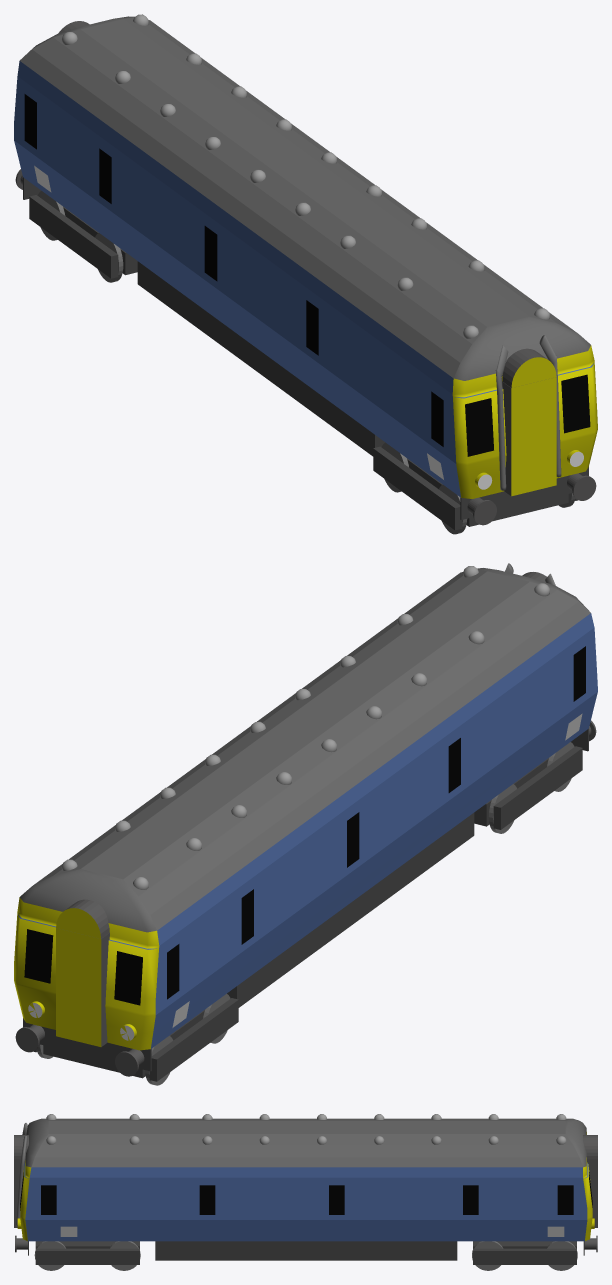
3 renders of one model, top to bottom at view 1: azimuth 30°, elevation 25°; view 2: azimuth 150°, elevation 25°; view 3: azimuth 270°, elevation 25°, orthographic. The views are drawn at different scales.
Parts seen in each view (by area): view 1: Plane_002, Cube_012, Cube_006, Cube_004, Cube_001, Cylinder_014, Plane_001, Plane_003, Cube_008, Cube_002, Cylinder_013, Cylinder_012; view 2: Plane_002, Cube_012, Cube_007, Cube_001, Cube_004, Cylinder_015, Cube_009, Plane_004, Plane_005, Cube_003; view 3: Plane_002, Cube_012, Cube, Cube_005, Plane_006, Plane_007, Cube_007, Plane, Plane_009, Plane_010, Cube_002, Cube_003 (+8 smaller).
Part boxes in pixels (x1=…): Plane_002: x1=14, y1=16, x2=597, y2=498; Cube_012: x1=137, y1=261, x2=384, y2=456; Cube_006: x1=502, y1=377, x2=556, y2=496; Cube_004: x1=29, y1=195, x2=118, y2=278; Cube_001: x1=373, y1=446, x2=462, y2=530; Cylinder_014: x1=502, y1=348, x2=556, y2=387; Plane_001: x1=561, y1=374, x2=590, y2=433; Plane_003: x1=465, y1=398, x2=493, y2=456; Cube_008: x1=460, y1=467, x2=588, y2=519; Cube_002: x1=407, y1=458, x2=568, y2=526; Cylinder_013: x1=495, y1=345, x2=508, y2=490; Cylinder_012: x1=539, y1=335, x2=561, y2=477; Plane_002: x1=14, y1=568, x2=597, y2=1050; Cube_012: x1=227, y1=813, x2=474, y2=1007; Cube_007: x1=56, y1=928, x2=109, y2=1046; Cube_001: x1=493, y1=746, x2=582, y2=829; Cube_004: x1=149, y1=998, x2=238, y2=1081; Cylinder_015: x1=56, y1=899, x2=109, y2=938; Cube_009: x1=23, y1=1018, x2=151, y2=1071; Plane_004: x1=114, y1=951, x2=142, y2=1005; Plane_005: x1=24, y1=929, x2=53, y2=983; Cube_003: x1=43, y1=1009, x2=205, y2=1078; Plane_002: x1=20, y1=1118, x2=592, y2=1241; Cube_012: x1=155, y1=1241, x2=457, y2=1260; Cube: x1=35, y1=1248, x2=139, y2=1264; Cube_005: x1=473, y1=1248, x2=576, y2=1264; Plane_006: x1=199, y1=1185, x2=215, y2=1214; Plane_007: x1=557, y1=1185, x2=573, y2=1214; Cube_007: x1=587, y1=1159, x2=597, y2=1227; Plane: x1=41, y1=1185, x2=56, y2=1214; Plane_009: x1=329, y1=1185, x2=344, y2=1214; Plane_010: x1=463, y1=1185, x2=478, y2=1214; Cube_002: x1=35, y1=1241, x2=139, y2=1248; Cube_003: x1=473, y1=1241, x2=576, y2=1248.
Bounding box in the file's own units: 2 × 11.22 × 2.71.
